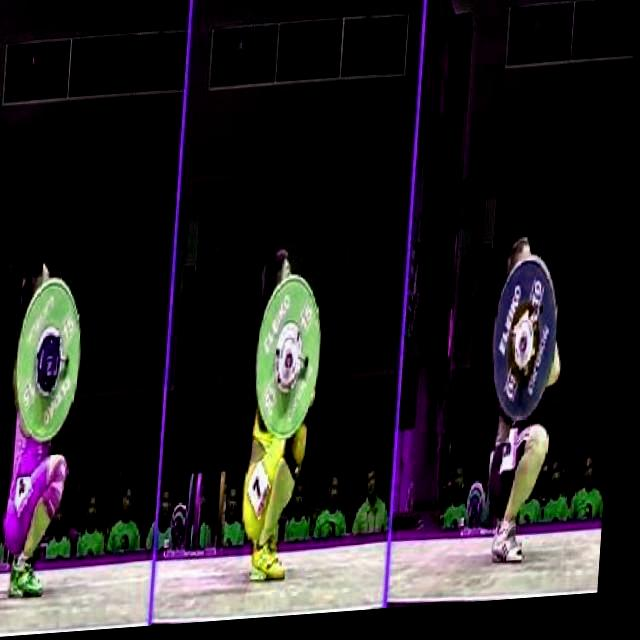barbell: (8, 273, 100, 447), (489, 257, 572, 435), (253, 272, 334, 449)
